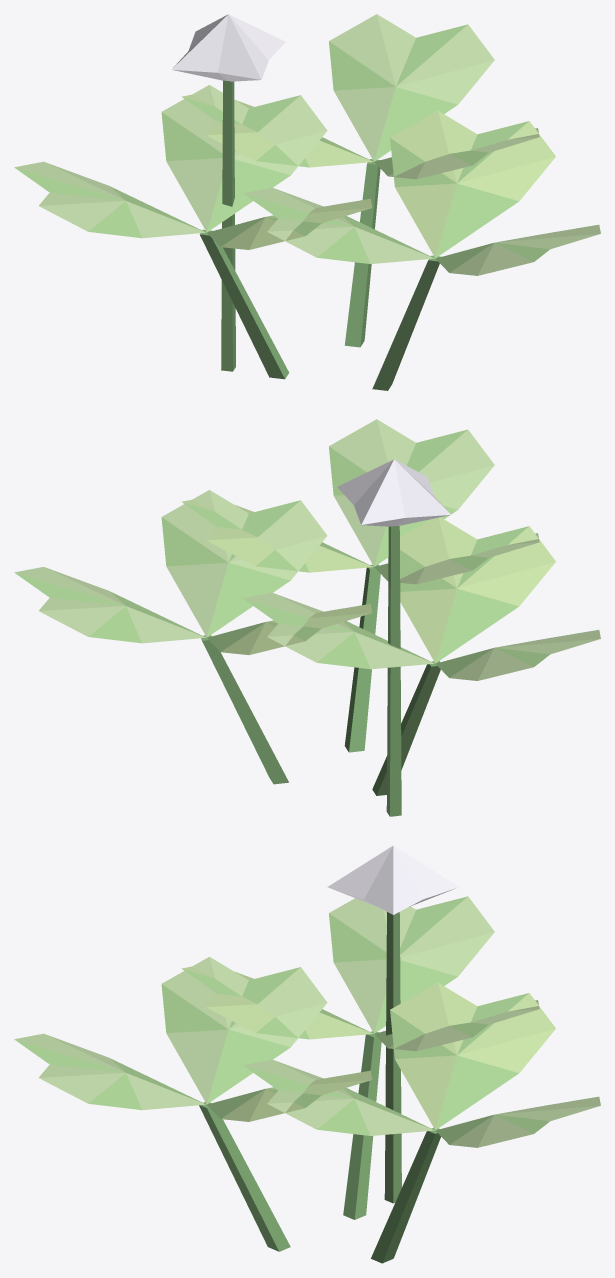
File: crop_clover_s2.glb
The picture shows the model from 3 angles, top to bottom: view 1: azimuth 30°, elevation 25°; view 2: azimuth 150°, elevation 25°; view 3: azimuth 270°, elevation 25°; orthographic projection.
Parts seen in each view (by area): view 1: crop_clover_s2; view 2: crop_clover_s2; view 3: crop_clover_s2.
Boxes of the visible parts, bbox=[...] form: crop_clover_s2: bbox=[14, 14, 600, 390]; crop_clover_s2: bbox=[14, 419, 600, 816]; crop_clover_s2: bbox=[14, 845, 600, 1263].
Bounding box in the file's own units: 0.4082 × 0.272 × 0.4082.
